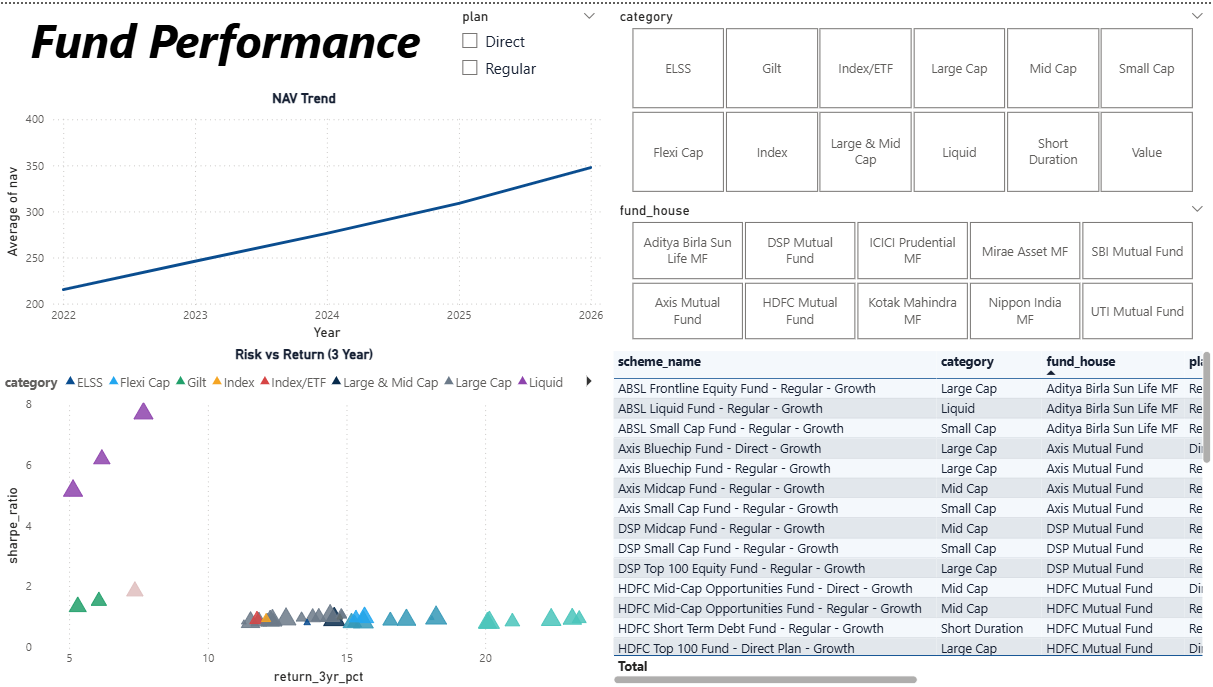

The page's visual inventory and layout, read from the dashboard file:
{"tool":"powerbi","page":{"name":"Fund Performance","canvas":[1280,720],"ordinal":1},"visuals":[{"type":"textbox","box":[0,0,474.3,91.4],"z":0},{"type":"scatterChart","title":"Risk vs Return (3 Year)","fields":{"X":["Performance.return_3yr_pct"],"Y":["Performance.sharpe_ratio"],"Size":["Sum(Performance.aum_crore)"],"Series":["Performance.category"]},"box":[0,360.3,639.7,360.3],"z":1000},{"type":"tableEx","fields":{"Values":["Performance.scheme_name","Performance.category","Performance.fund_house","Performance.plan","Sum(Performance.aum_crore)","Performance.return_3yr_pct","Sum(Performance.sharpe_ratio)","Sum(Performance.max_drawdown_pct)"]},"box":[640,360,640,360],"z":2000},{"type":"lineChart","title":"NAV Trend","fields":{"Category":["NAV.date.Variation.Date Hierarchy.Year","NAV.date.Variation.Date Hierarchy.Quarter","NAV.date.Variation.Date Hierarchy.Month","NAV.date.Variation.Date Hierarchy.Day"],"Y":["Avg(NAV.nav)"]},"box":[0,91.4,640,268.6],"z":3000},{"type":"slicer","fields":{"Values":["Performance.fund_house"]},"box":[640,204.3,640,155.7],"z":4000},{"type":"slicer","fields":{"Values":["Performance.category"]},"box":[640,0,640,204.3],"z":5000},{"type":"slicer","fields":{"Values":["Performance.plan"]},"box":[474.3,0,165.7,102.9],"z":6000}]}

Visuals, with their boxes in screenshot pixels (x1, y1, x2, y2), scaled from the page's 1280x720 canvas onto the 1213x687 screenshot:
textbox: {"x1": 0, "y1": 0, "x2": 449, "y2": 87}
"Risk vs Return (3 Year)" scatterChart: {"x1": 0, "y1": 344, "x2": 606, "y2": 686}
tableEx - Performance.scheme_name x Performance.category: {"x1": 606, "y1": 344, "x2": 1212, "y2": 686}
"NAV Trend" lineChart: {"x1": 0, "y1": 87, "x2": 606, "y2": 344}
slicer - Performance.fund_house: {"x1": 606, "y1": 195, "x2": 1212, "y2": 344}
slicer - Performance.category: {"x1": 606, "y1": 0, "x2": 1212, "y2": 195}
slicer - Performance.plan: {"x1": 449, "y1": 0, "x2": 606, "y2": 98}
